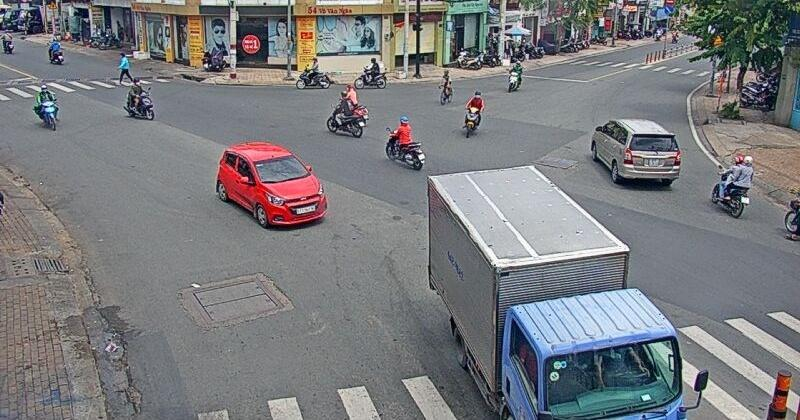xe dap: (438, 69, 454, 105)
xe hoi: (214, 141, 327, 227), (590, 118, 680, 185)
xe may: (712, 155, 754, 218), (385, 115, 425, 169), (325, 90, 366, 138), (123, 77, 155, 120), (31, 83, 59, 129), (353, 57, 387, 89), (295, 58, 330, 89), (464, 91, 483, 138), (507, 61, 523, 92)
xe tai: (425, 164, 685, 420)
